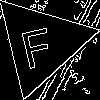F: (16, 18, 57, 70)
